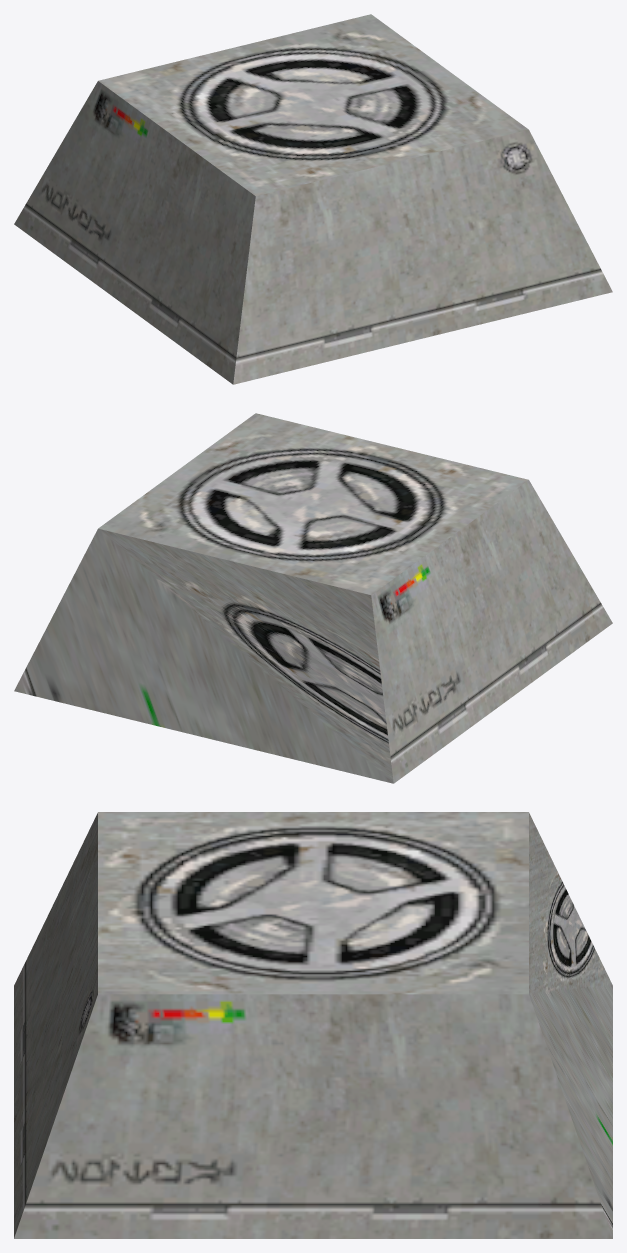
Rendered from con_gen_energy_radioactive_l2.fbx.
3 renders of one model, top to bottom at view 1: azimuth 30°, elevation 25°; view 2: azimuth 150°, elevation 25°; view 3: azimuth 270°, elevation 25°, orthographic. The views are drawn at different scales.
Parts seen in each view (by area): view 1: mesh_node; view 2: mesh_node; view 3: mesh_node.
Part boxes in pixels (x1,y1,x2,y2): mesh_node: (14, 14, 612, 384); mesh_node: (14, 413, 612, 783); mesh_node: (14, 812, 612, 1238).
Bounding box in the file's own units: 2.13 × 0.8217 × 2.13.
